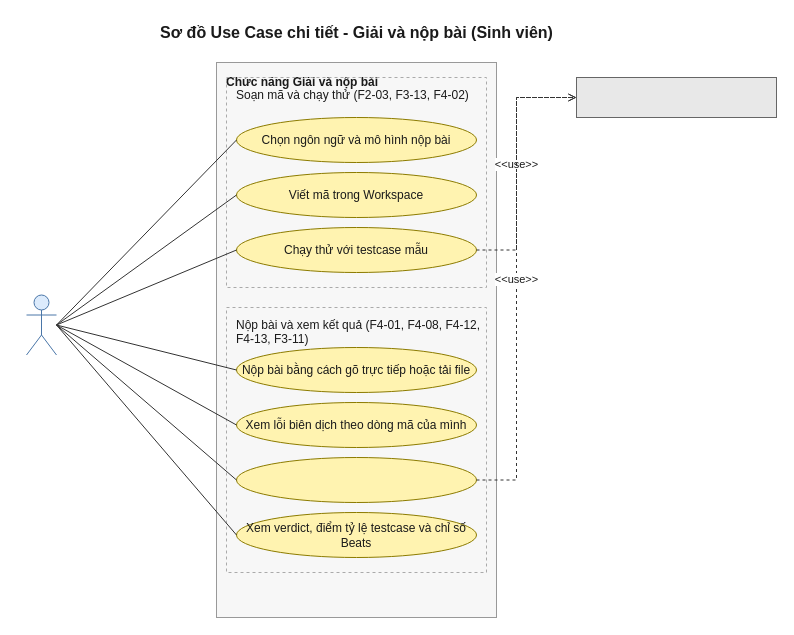
The diagram is 794 pixels wide and 635 high, and some of its shapes have lost their labels. Each missing label, with the centre of its shape:
go-judge: the point at 676,97
Sinh viên: the point at 41,324
Theo dõi trạng thái từng testcase thời gian thực: the point at 356,479
